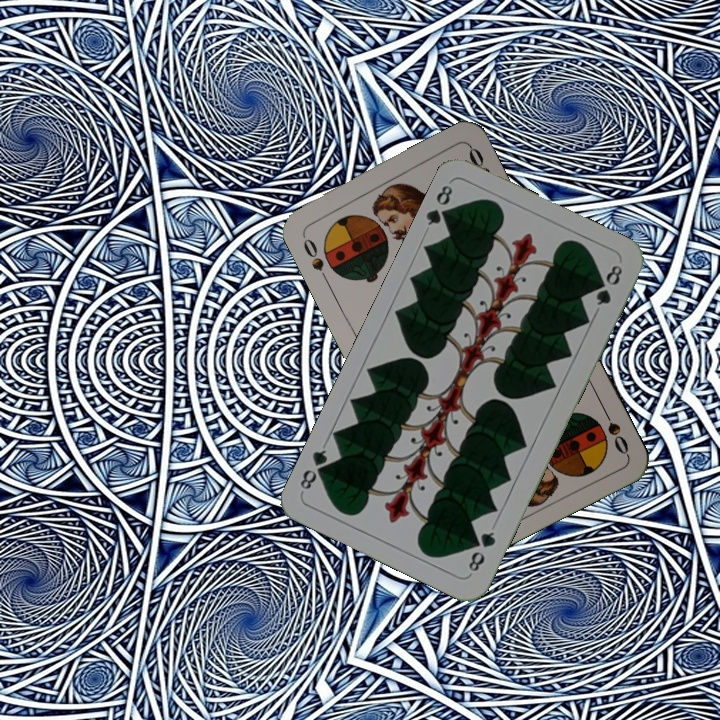G8: (422, 181, 457, 228), (464, 527, 498, 575)
SO: (597, 402, 632, 457), (298, 229, 327, 274)
